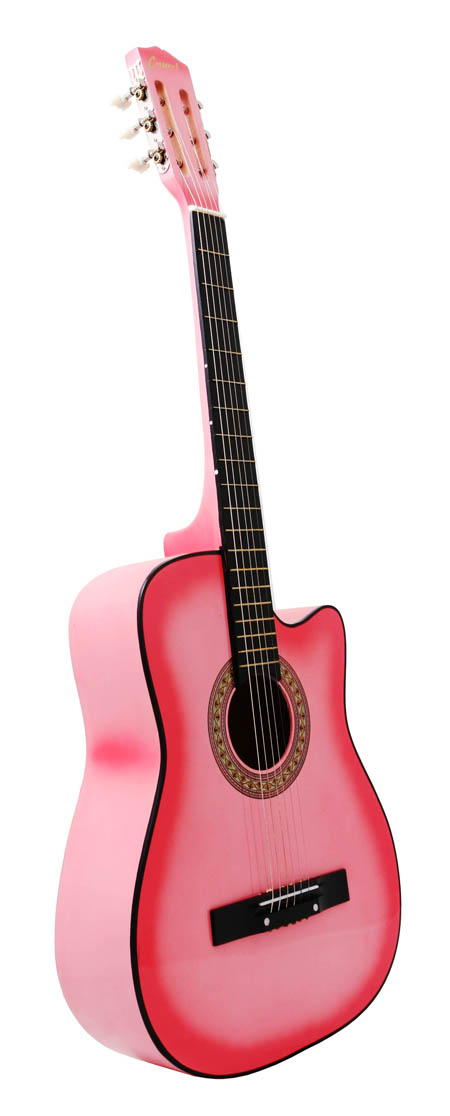guitar: (66, 45, 406, 1083)
